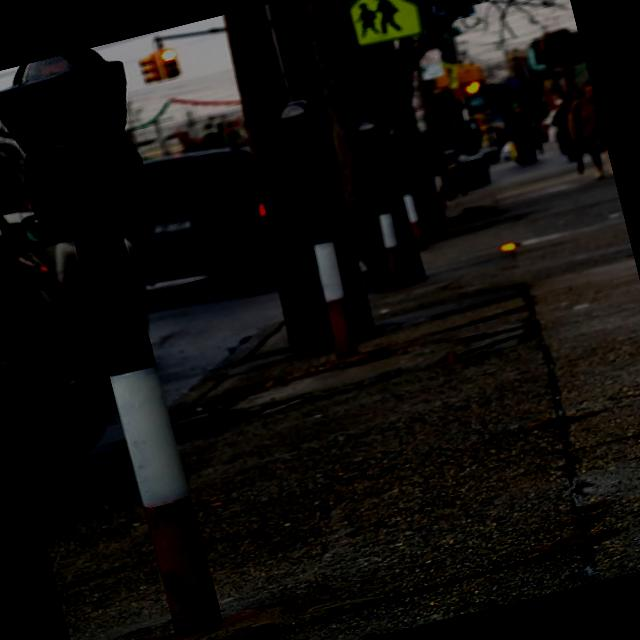Vehicle: (0, 117, 120, 470), (108, 136, 280, 307)
